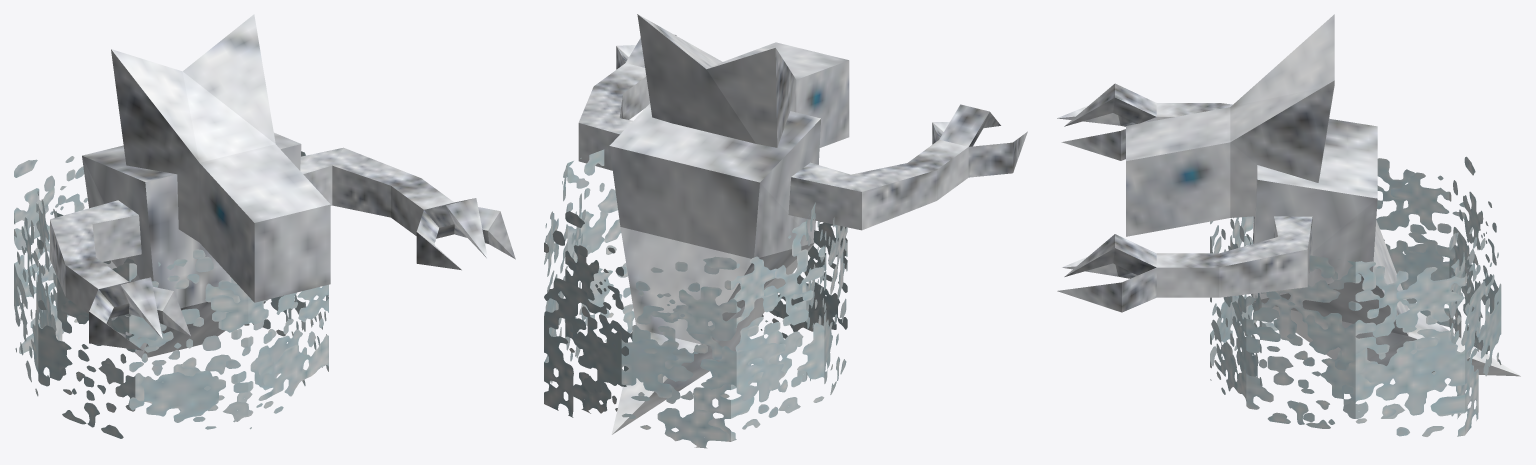
Rendered from reiver.obj.
3 views of the same model, side by side, from view 1: azimuth 30°, elevation 25°; view 2: azimuth 150°, elevation 25°; view 3: azimuth 270°, elevation 25° (orthographic). The views are drawn at different scales.
Visible parts, largest first — view 1: Head, OuterEffect, Body, RightArm, LeftArm, InnerEffect; view 2: Body, OuterEffect, Head, InnerEffect, RightArm, LeftArm; view 3: OuterEffect, Head, Body, InnerEffect, LeftArm, RightArm.
Boxes of the visible parts, box(x1,y1,x2,y2) form: Head: box(111, 14, 330, 302); OuterEffect: box(14, 151, 328, 438); Body: box(82, 132, 301, 358); RightArm: box(50, 200, 190, 350); LeftArm: box(300, 147, 515, 270); InnerEffect: box(36, 169, 306, 422); Body: box(609, 103, 820, 434); OuterEffect: box(544, 149, 847, 448); Head: box(637, 14, 849, 147); InnerEffect: box(565, 183, 826, 441); RightArm: box(788, 104, 1027, 230); LeftArm: box(578, 35, 676, 170); OuterEffect: box(1210, 156, 1501, 436); Head: box(1126, 14, 1334, 236); Body: box(1253, 119, 1520, 376); InnerEffect: box(1230, 159, 1480, 428); LeftArm: box(1057, 216, 1312, 312); RightArm: box(1057, 83, 1232, 160).
Size of the model in its own units: 2.16 by 1.81 by 2.23.
